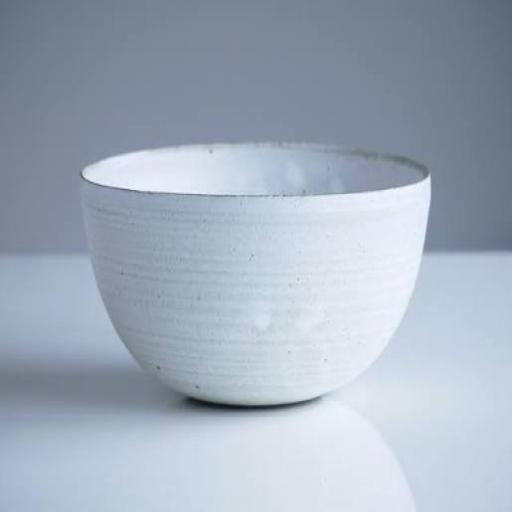Bowl: (80, 144, 430, 409)
